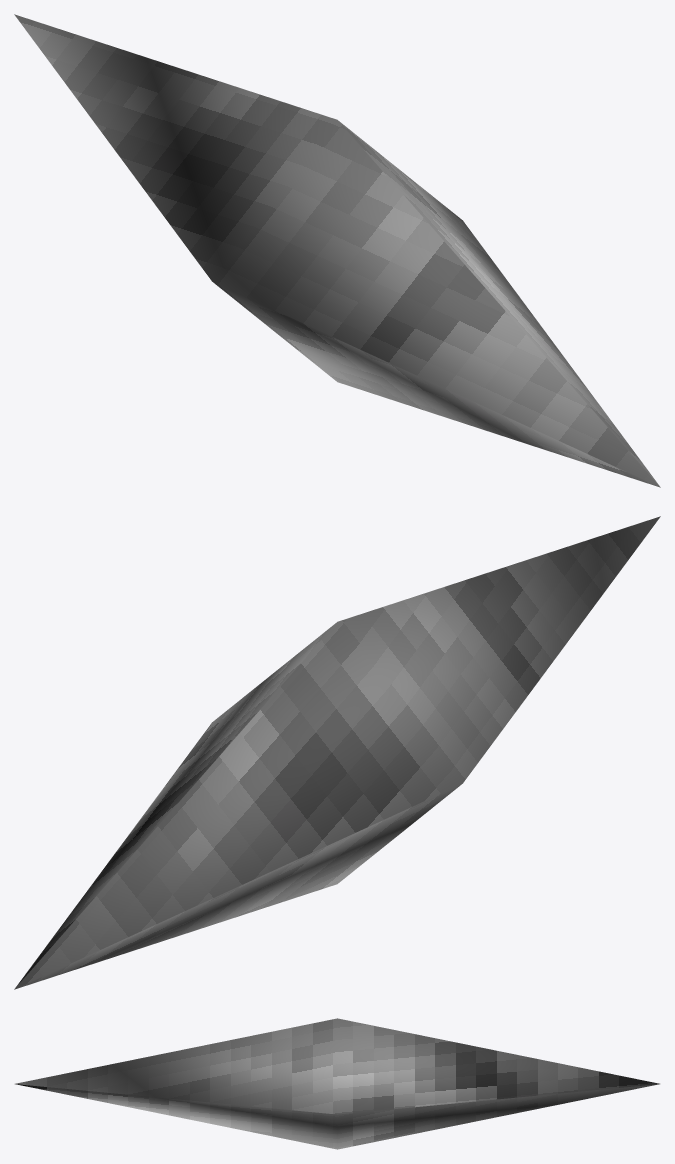
Rendered from ice_stone02.glb.
The picture shows the model from 3 angles, top to bottom: view 1: azimuth 30°, elevation 25°; view 2: azimuth 150°, elevation 25°; view 3: azimuth 270°, elevation 25°; orthographic projection. The views are drawn at different scales.
Visible parts, largest first — view 1: model_ice_stone02; view 2: model_ice_stone02; view 3: model_ice_stone02.
Boxes of the visible parts, box(x1,y1,x2,y2) form: model_ice_stone02: box(14, 14, 660, 487); model_ice_stone02: box(14, 516, 660, 989); model_ice_stone02: box(15, 1018, 659, 1149).
Bounding box in the file's own units: 0.0341 × 0.0341 × 0.1523.
Materials: 1 (1 with a texture image).
